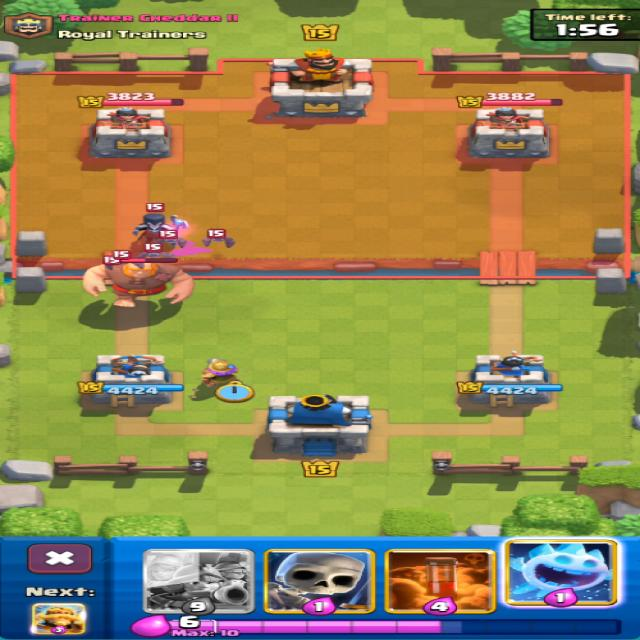Enemy-Bat: (202, 230, 234, 247), (138, 244, 172, 257), (156, 237, 183, 248)
Enemy-Giant: (84, 262, 192, 307)
Enemy-KingTower: (270, 49, 372, 116)
Enemy-NightWitch: (133, 213, 187, 240)
Enemy-PrincessTower: (91, 107, 170, 158), (470, 107, 548, 157)
